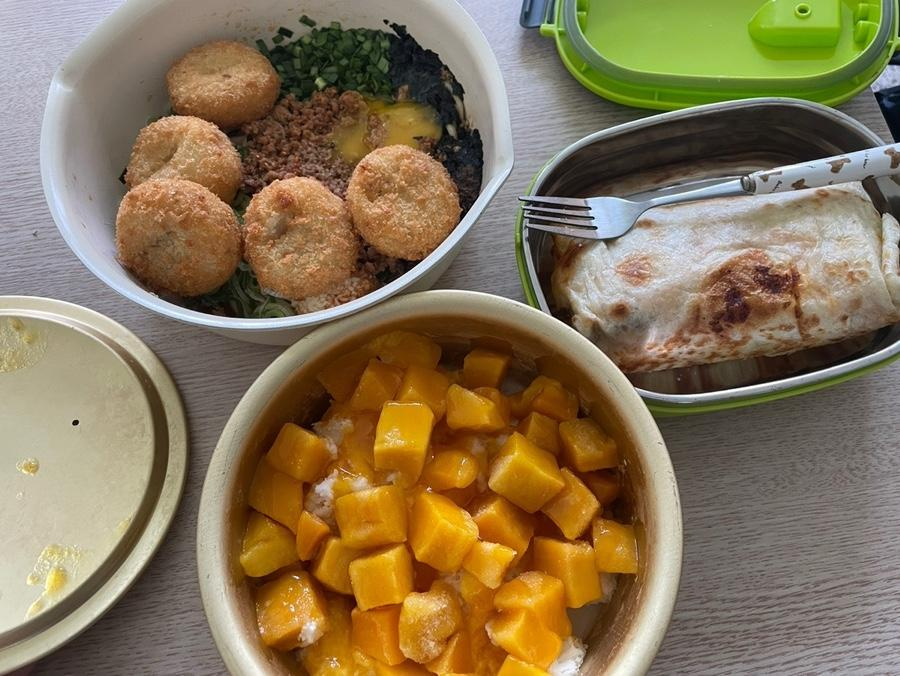Lunch Box: (199, 290, 682, 675), (40, 0, 512, 343), (517, 177, 899, 412)
